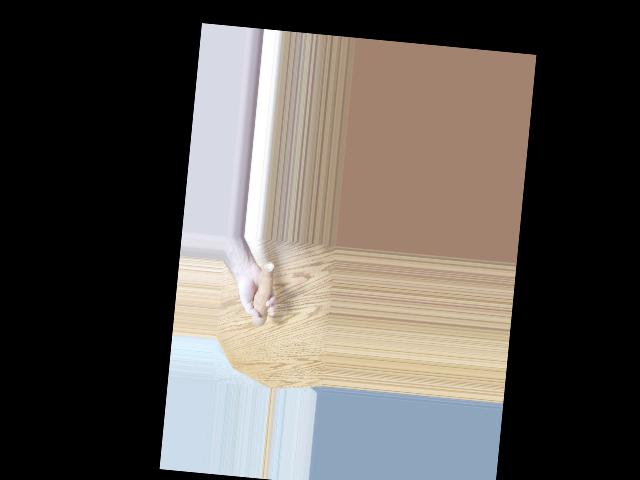sweet_potato: (254, 258, 277, 331)
